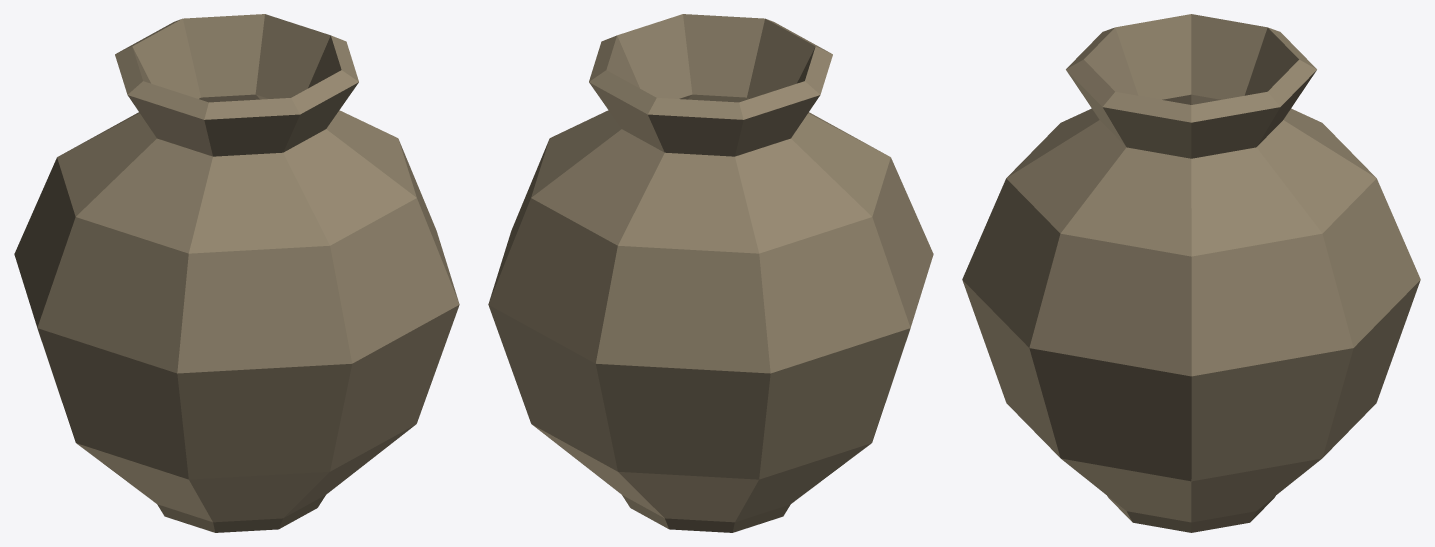
The model's file is Pot_6.fbx.
3 renders of one model, left to right at view 1: azimuth 30°, elevation 25°; view 2: azimuth 150°, elevation 25°; view 3: azimuth 270°, elevation 25°, orthographic.
Visible parts, largest first — view 1: Pot_6; view 2: Pot_6; view 3: Pot_6.
Part boxes in pixels (x1,y1,x2,y2): Pot_6: [14, 14, 459, 532]; Pot_6: [488, 14, 933, 532]; Pot_6: [962, 14, 1420, 532].
Size of the model in its own units: 40.19 by 42.39 by 40.19.
